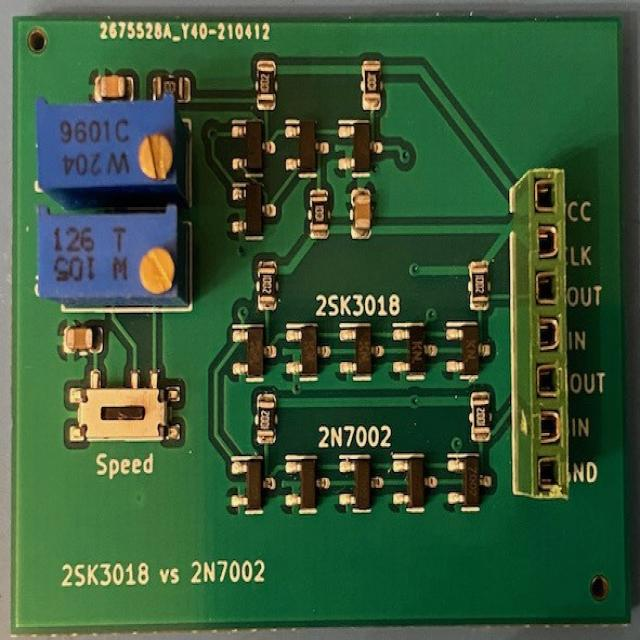2235: (77, 379, 173, 452)
4439: (452, 446, 488, 512), (290, 456, 325, 520), (398, 451, 432, 515), (234, 179, 272, 233), (339, 118, 377, 172), (346, 325, 382, 381), (454, 319, 488, 376), (287, 327, 322, 381), (346, 457, 378, 516), (234, 122, 271, 173), (231, 322, 268, 370), (238, 454, 266, 515), (290, 116, 322, 169), (398, 322, 424, 382)
capacitor 1V5: (350, 184, 375, 242), (65, 326, 102, 354), (90, 78, 131, 100)
connector -5v-: (512, 160, 574, 508)
potentiometer POT1: (36, 206, 182, 306), (40, 97, 182, 198)
resistor IR1: (254, 263, 284, 310), (361, 59, 382, 114), (154, 69, 189, 101), (255, 59, 277, 108), (468, 257, 488, 310), (255, 396, 275, 448), (475, 399, 490, 433)
